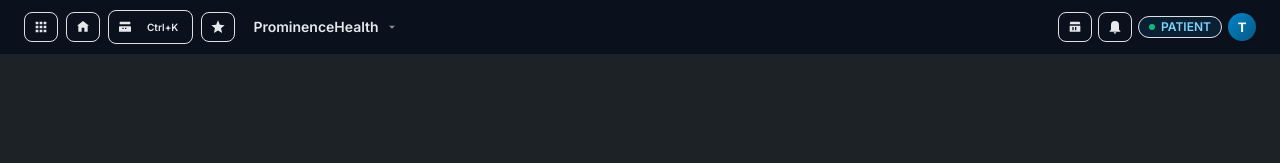
it: notifications dropdown is right-aligned and shows the heading
The width and height of the screenshot is (1280, 163).
Click the button titled "Notifications" at (1115, 27), box [1098,12,1132,42]
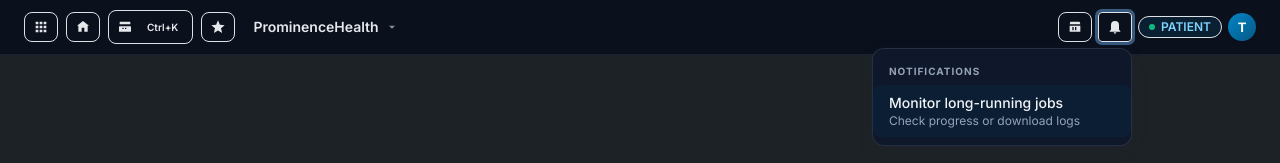
Now the text "Notifications" is shown, box [889,65,980,77]
Now the element with class "right-0" is shown, box [872,48,1132,146]
